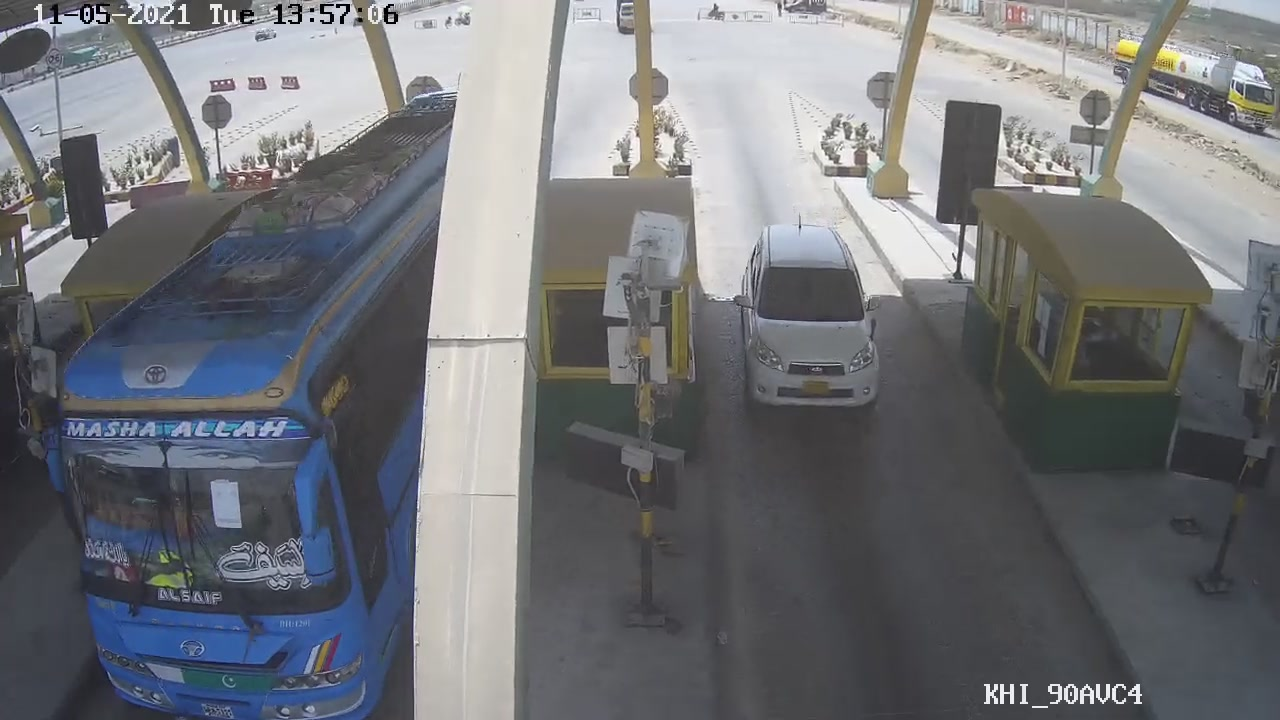F1: (724, 209, 892, 420)
